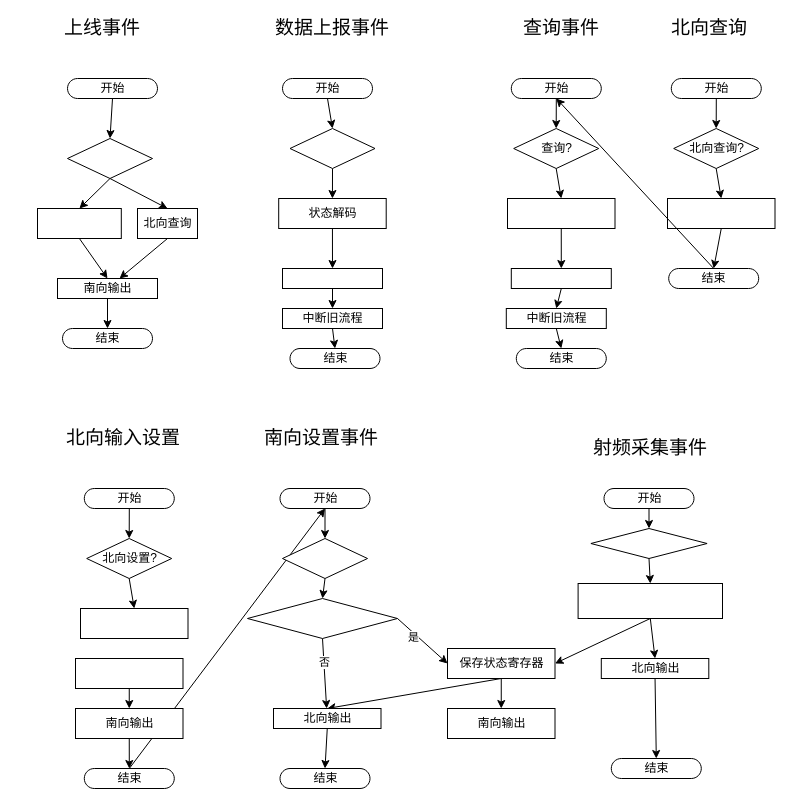
Image size: 811x806. Some labels were removed from this diagram. Each missing label, with the centre of its shape:
"上报?" goes at (332,148).
"上线或启动?" goes at (109,158).
"北向上报输出" goes at (332,278).
"北向查询输出" goes at (560,278).
"射频解码，更新数据位" goes at (649,600).
"是否sid(用户发起)?" goes at (322,618).
"状态寄存器请求" goes at (720,213).
"状态射频码编码" goes at (128,673).
"状态数据位设置" goes at (134,623).
"空调状态解码" goes at (560,213).
"设置?" goes at (325,558).
"配置定时上报" goes at (78,223).
"采集?" goes at (648,543).
